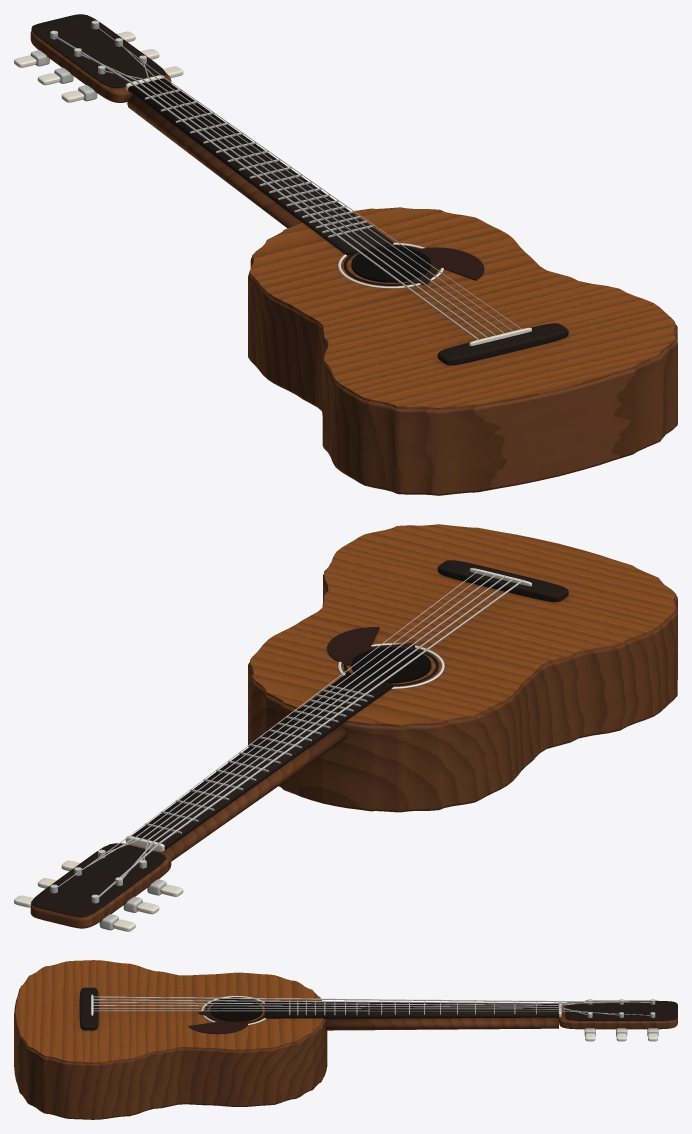
The model's file is sunburst.glb.
3 renders of one model, top to bottom at view 1: azimuth 30°, elevation 25°; view 2: azimuth 150°, elevation 25°; view 3: azimuth 270°, elevation 25°, orthographic. The views are drawn at different scales.
Parts seen in each view (by area): view 1: paint_primary_burst, rosewood, ebony_board, string_steel, fret_nickel, hole_dark, bone_nut, pickguard; view 2: paint_primary_burst, rosewood, ebony_board, string_steel, fret_nickel, bone_nut, hole_dark, pickguard; view 3: rosewood, paint_primary_burst, ebony_board, string_steel, hole_dark, fret_nickel, pickguard, bone_nut.
Part boxes in pixels (x1,y1,x2,y2): paint_primary_burst: (250,207,676,409); rosewood: (30,30,677,495); ebony_board: (31,14,568,365); string_steel: (55,26,521,340); fret_nickel: (30,20,373,237); hole_dark: (351,247,431,282); bone_nut: (14,31,531,345); pickguard: (410,247,484,285); paint_primary_burst: (250,524,676,727); rosewood: (30,574,677,928); ebony_board: (31,560,568,917); string_steel: (58,570,522,897); fret_nickel: (30,685,373,930); bone_nut: (14,568,531,931); hole_dark: (351,647,431,683); pickguard: (327,627,414,665); rosewood: (14,988,677,1119); paint_primary_burst: (15,960,323,1063); ebony_board: (79,987,677,1030); string_steel: (92,996,650,1015); hole_dark: (210,999,262,1021); fret_nickel: (289,999,658,1036); pickguard: (188,1010,248,1034); bone_nut: (91,994,657,1041).
Size of the model in its own units: 0.3898 by 0.1156 by 1.06.
8 materials, 4 textured.
